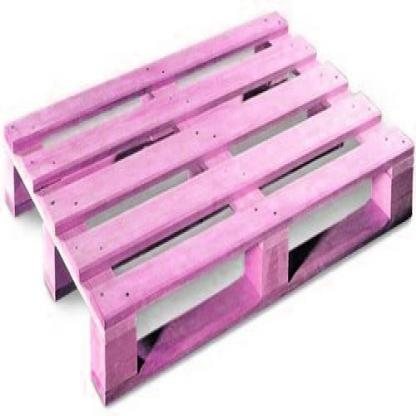BoxFace: (1, 7, 413, 412)
